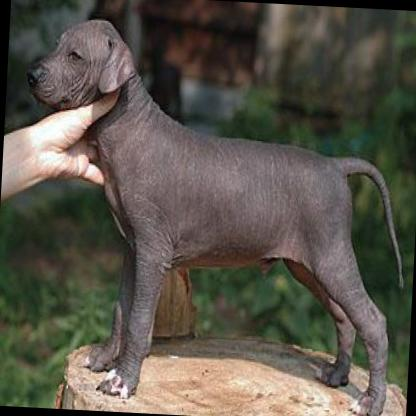Mexican_hairless: (9, 13, 415, 416)
